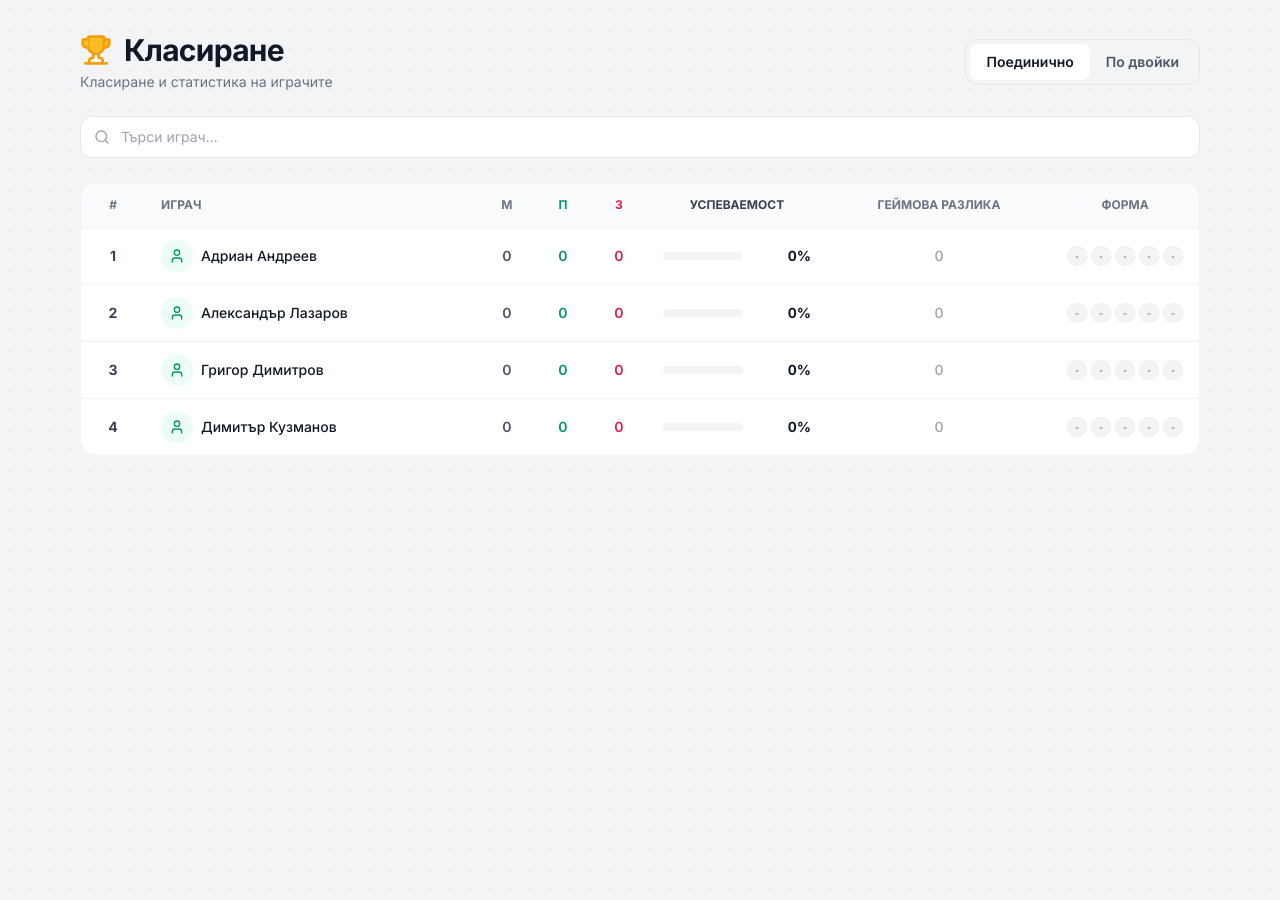
Test case: RankingsPage Component › opens PlayerProfileModal when a player row is clicked, receives tournaments list, and closes on close button
Check: the table is shown, box x1=81 y1=183 x2=1199 y2=455
Note: Click on player row for Григор Димитров (desktop row is index 0)
Click the button with aria-label "Преглед на профила на Григор Димитров": [177, 370] box x1=81 y1=342 x2=1199 y2=398
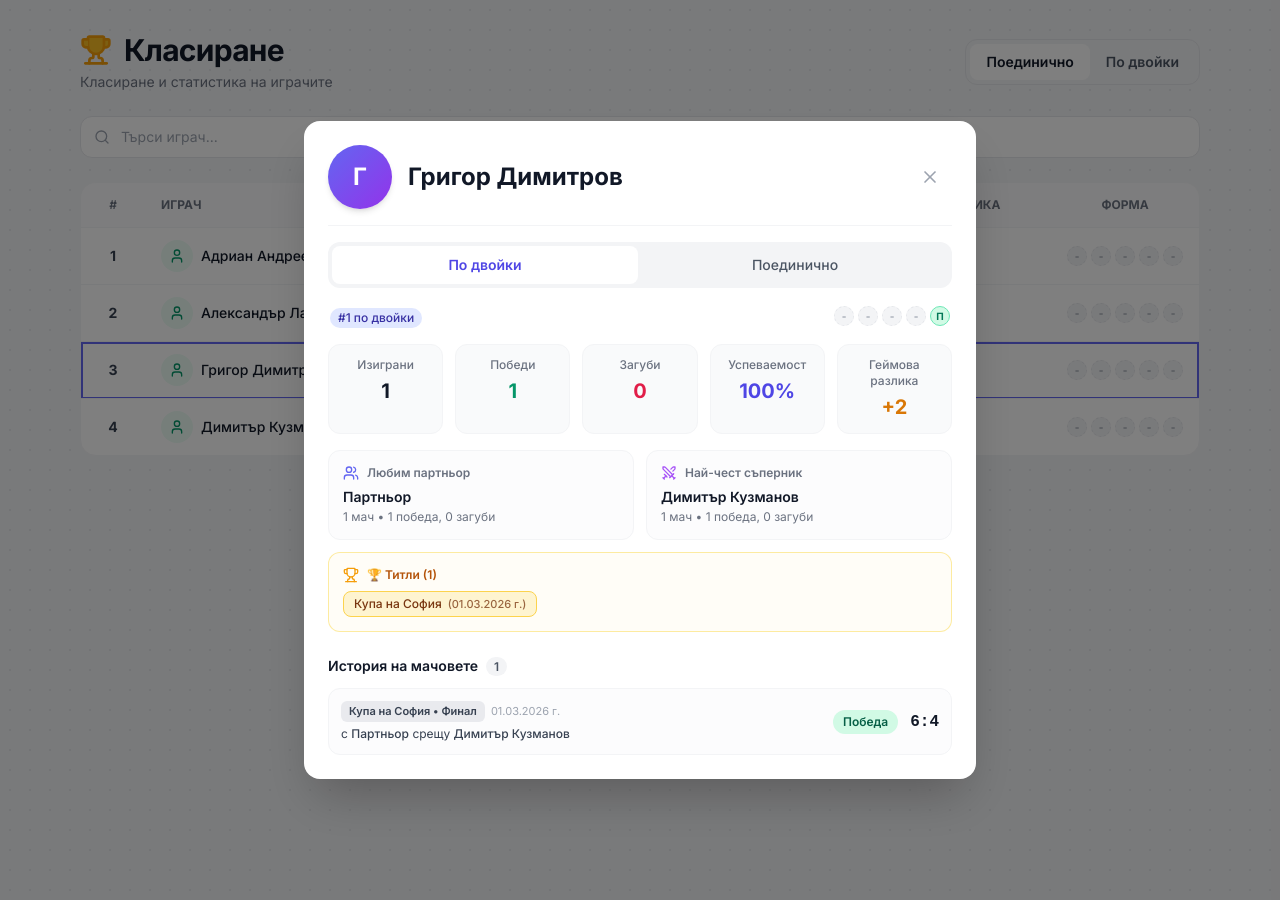
Check: the dialog is shown, box x1=304 y1=121 x2=976 y2=779
Check: the heading "Григор Димитров" is shown, box x1=408 y1=161 x2=623 y2=193
Check: the text "Купа на София • Финал" is shown, box x1=341 y1=701 x2=485 y2=722
Note: Close button dismisses the modal
Click the button named "Затвори": [930, 177] box x1=908 y1=155 x2=952 y2=199
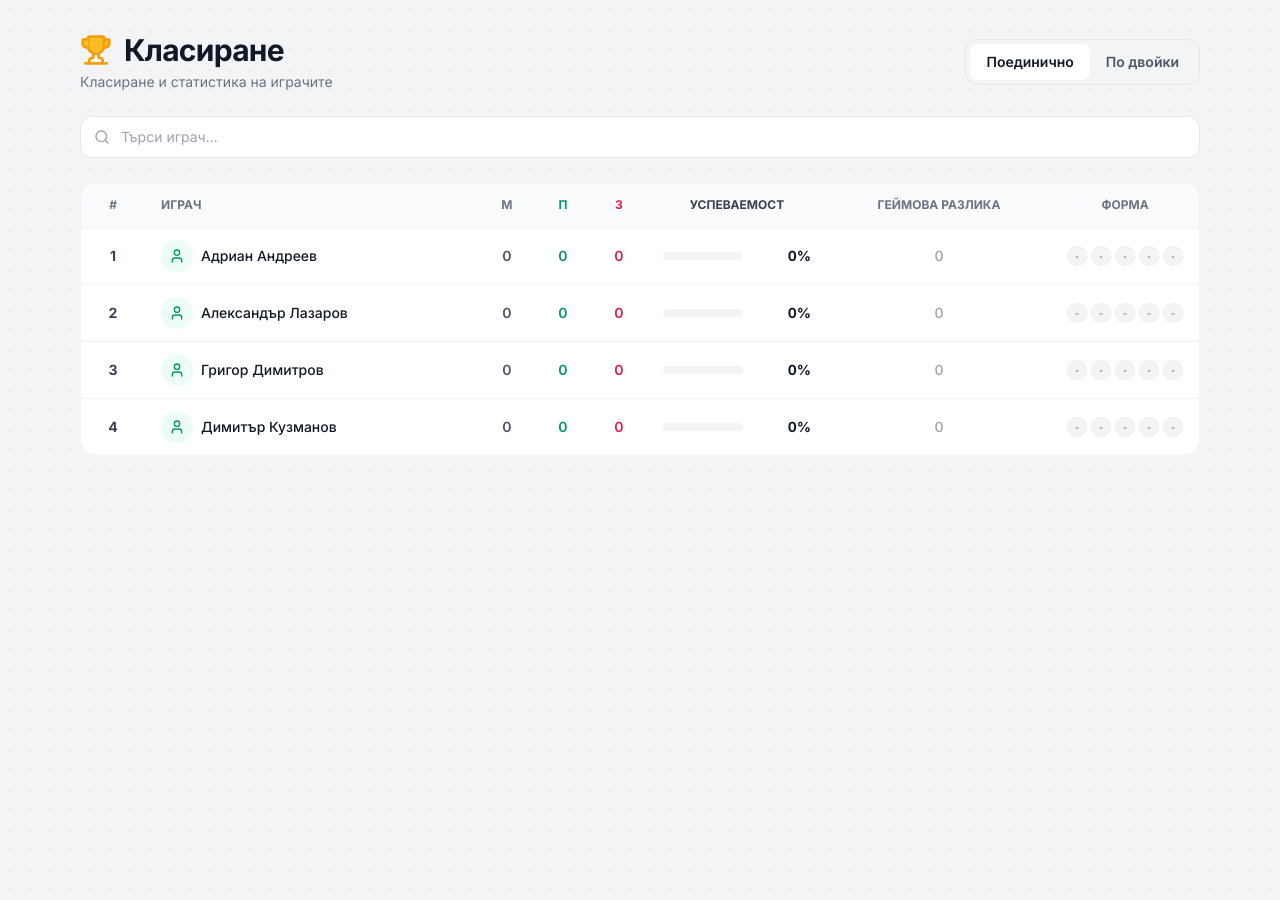
Check: the dialog is gone
